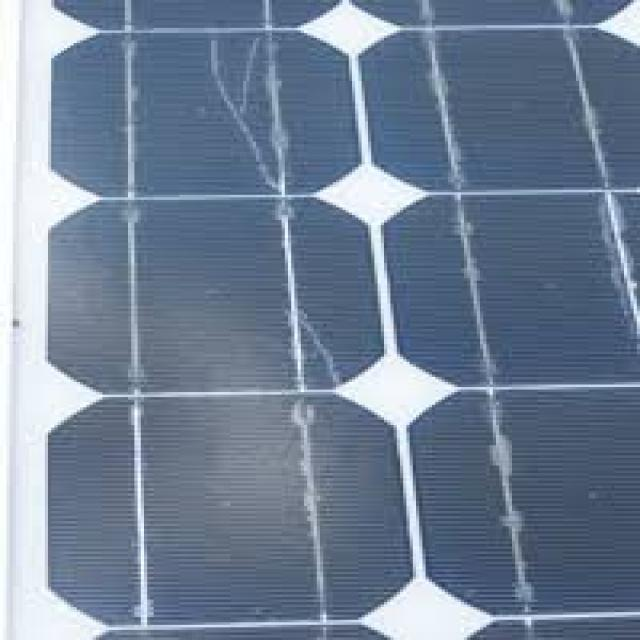faulty: (56, 1, 638, 640)
